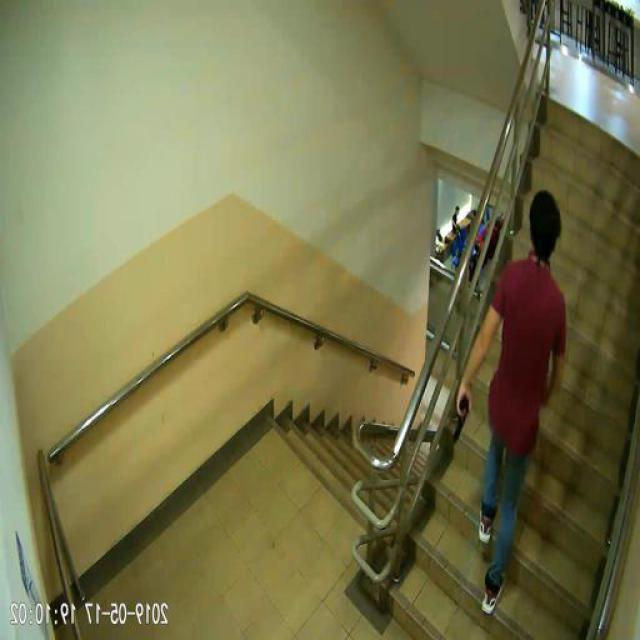weapon: (452, 396, 472, 443)
